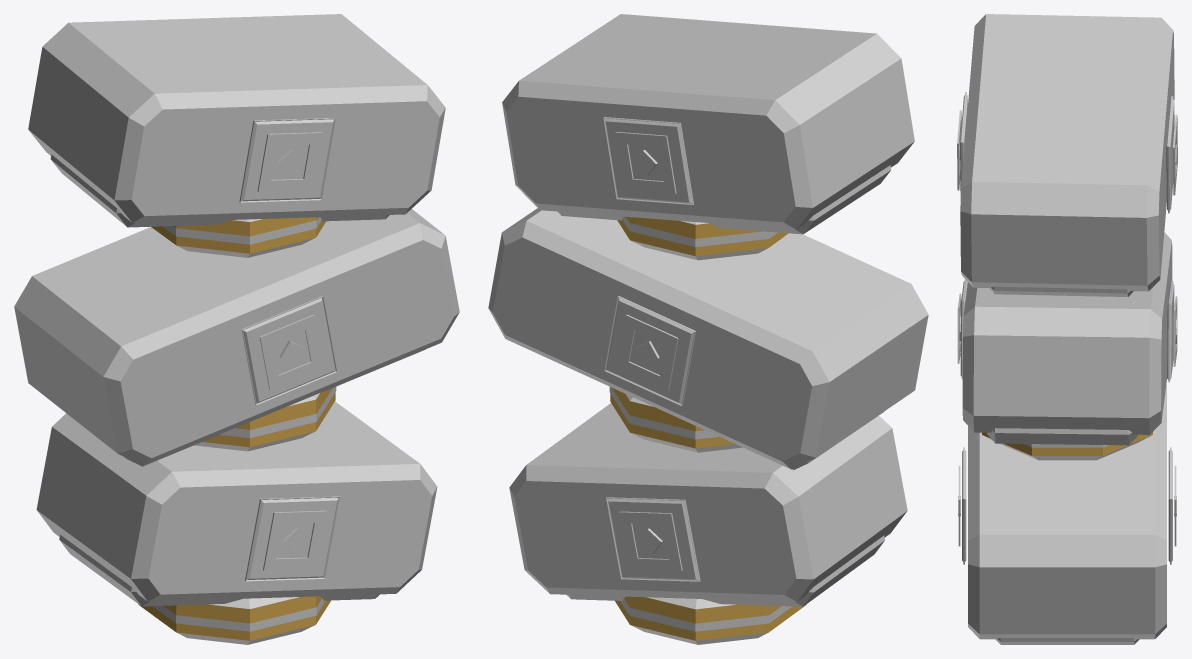
The model's file is wand_motion_16.obj.
3 renders of one model, left to right at view 1: azimuth 30°, elevation 25°; view 2: azimuth 150°, elevation 25°; view 3: azimuth 270°, elevation 25°, orthographic. The views are drawn at different scales.
Parts seen in each view (by area): view 1: chamfered_seal_tablet_2, chamfered_seal_tablet_1, chamfered_seal_tablet_0, tablet_spacer_0, inset_rune_socket_5, inset_rune_socket_3, inset_rune_socket_1, tablet_spacer_2, tablet_spacer_1, seal_shadow_base_0, seal_shadow_base_2, tablet_spacer_dark_seam_0 (+2 smaller); view 2: chamfered_seal_tablet_1, chamfered_seal_tablet_2, chamfered_seal_tablet_0, tablet_spacer_0, inset_rune_socket_0, inset_rune_socket_2, inset_rune_socket_4, tablet_spacer_2, tablet_spacer_1, seal_shadow_base_2, seal_shadow_base_0, tablet_spacer_dark_seam_0 (+2 smaller); view 3: chamfered_seal_tablet_2, chamfered_seal_tablet_0, chamfered_seal_tablet_1, seal_shadow_base_1, tablet_spacer_1, seal_shadow_base_2, seal_shadow_base_0, inset_rune_socket_4, inset_rune_socket_2, inset_rune_socket_0, inset_rune_socket_1, inset_rune_socket_5.
Boxes of the visible parts, bbox=[...] form: chamfered_seal_tablet_2: bbox=[28, 14, 445, 222]; chamfered_seal_tablet_1: bbox=[14, 209, 459, 465]; chamfered_seal_tablet_0: bbox=[36, 401, 437, 601]; tablet_spacer_0: bbox=[138, 596, 331, 644]; inset_rune_socket_5: bbox=[239, 118, 335, 202]; inset_rune_socket_3: bbox=[241, 296, 336, 405]; inset_rune_socket_1: bbox=[245, 496, 339, 581]; tablet_spacer_2: bbox=[151, 217, 325, 257]; tablet_spacer_1: bbox=[194, 388, 335, 451]; seal_shadow_base_0: bbox=[59, 535, 379, 606]; seal_shadow_base_2: bbox=[50, 154, 389, 227]; tablet_spacer_dark_seam_0: bbox=[152, 598, 325, 631]; chamfered_seal_tablet_1: bbox=[488, 208, 928, 469]; chamfered_seal_tablet_2: bbox=[502, 14, 914, 229]; chamfered_seal_tablet_0: bbox=[509, 403, 907, 601]; tablet_spacer_0: bbox=[615, 596, 806, 644]; inset_rune_socket_0: bbox=[606, 497, 700, 581]; inset_rune_socket_2: bbox=[604, 296, 695, 405]; inset_rune_socket_4: bbox=[603, 117, 693, 204]; tablet_spacer_2: bbox=[617, 216, 788, 260]; tablet_spacer_1: bbox=[610, 388, 742, 452]; seal_shadow_base_2: bbox=[557, 165, 891, 234]; seal_shadow_base_0: bbox=[566, 535, 884, 606]; tablet_spacer_dark_seam_0: bbox=[620, 598, 791, 631]; chamfered_seal_tablet_2: bbox=[960, 14, 1174, 291]; chamfered_seal_tablet_0: bbox=[968, 384, 1166, 639]; chamfered_seal_tablet_1: bbox=[962, 232, 1172, 434]; seal_shadow_base_1: bbox=[987, 428, 1137, 445]; tablet_spacer_1: bbox=[982, 432, 1152, 460]; seal_shadow_base_2: bbox=[989, 286, 1133, 296]; seal_shadow_base_0: bbox=[995, 638, 1139, 644]; inset_rune_socket_4: bbox=[1166, 96, 1174, 213]; inset_rune_socket_2: bbox=[1167, 281, 1174, 382]; inset_rune_socket_0: bbox=[1168, 447, 1172, 564]; inset_rune_socket_1: bbox=[962, 447, 966, 564]; inset_rune_socket_5: bbox=[960, 92, 967, 193].
Bounding box in the file's own units: 0.1981 × 0.309 × 0.1147.
